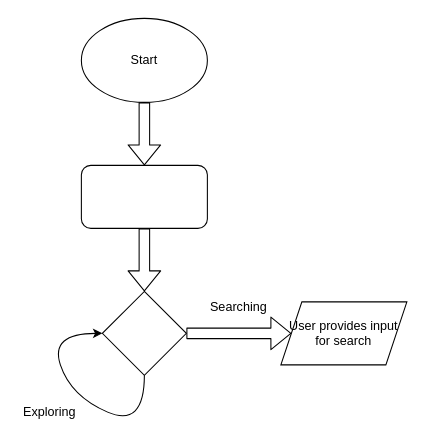
The diagram is 425 pixels wide and 446 high, and some of its shapes have lost their labels. The shapes that lost their labels are listed below. From the top down, each one's centre as x and y in pixels, then its label:
the point at 143,196: User enters website
the point at 143,332: Looking over products
